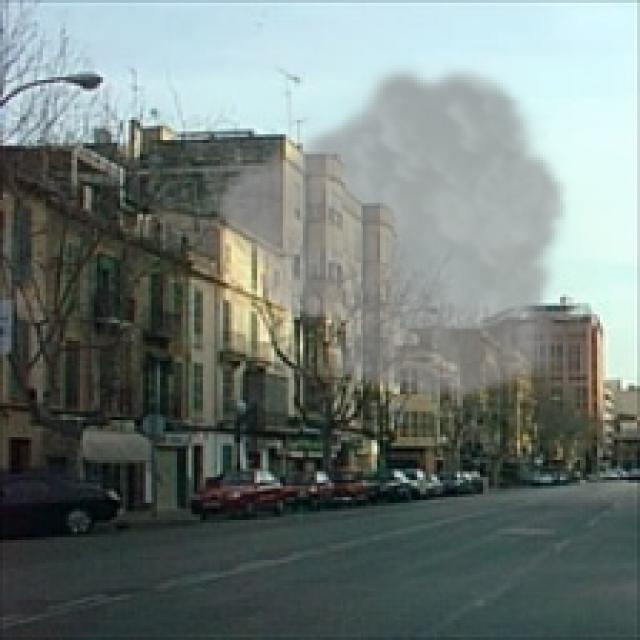Smoke: (206, 57, 572, 406)
